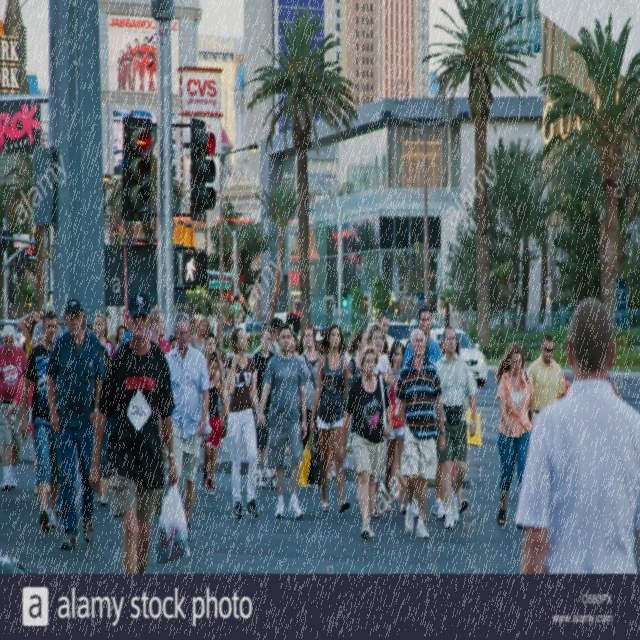pessoa: (516, 294, 640, 576), (85, 290, 179, 577), (44, 294, 106, 552), (394, 325, 448, 543), (338, 343, 394, 545), (256, 320, 310, 524), (162, 312, 210, 541), (401, 304, 447, 520), (18, 310, 62, 533), (433, 324, 478, 530), (224, 323, 266, 524), (309, 323, 352, 515), (495, 340, 536, 532), (432, 329, 470, 515), (316, 324, 351, 484), (0, 322, 29, 490), (295, 322, 324, 490), (384, 338, 408, 514), (198, 348, 226, 496), (525, 334, 568, 424), (112, 33, 160, 97), (202, 331, 228, 428), (366, 322, 394, 389), (346, 324, 368, 396), (17, 309, 45, 356), (146, 308, 172, 357), (93, 309, 114, 359), (189, 314, 211, 357), (378, 308, 396, 354), (268, 316, 284, 356), (114, 324, 128, 354), (291, 332, 300, 359), (168, 334, 178, 350), (438, 336, 446, 356)
